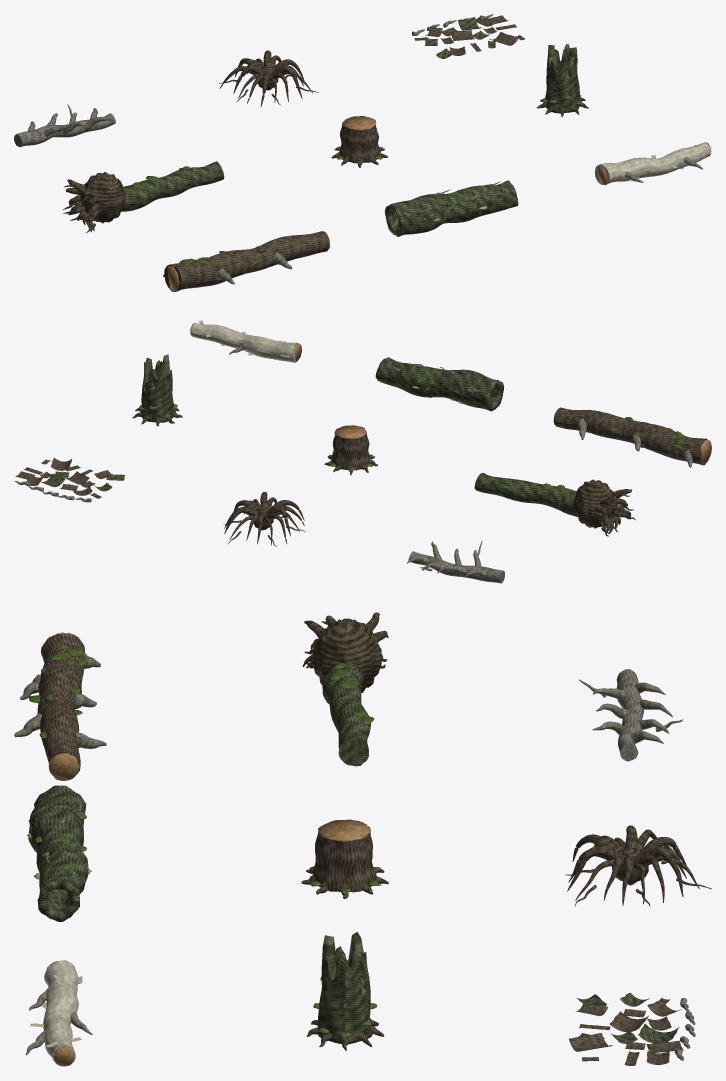
Rendered from PROJECT_Z_FallenLogStump_Master.glb.
3 views of the same model, one above another, from view 1: azimuth 30°, elevation 25°; view 2: azimuth 150°, elevation 25°; view 3: azimuth 270°, elevation 25° (orthographic). The views are drawn at different scales.
Visible parts, largest first — view 1: 02_HollowRot_Log_2p8m_HollowAnnularTrunk_MESH, 01_FallenPine_Log_3p6m_BarkTrunk_MESH, 04_Uprooted_TreeRootball_3p0m_Trunk_MESH, 03_Birch_Windfall_2p5m_PaleBarkTrunk_MESH, 06_Splintered_RottenStump_1p1m_HollowJaggedTrunk_MESH, 04_Uprooted_TreeRootball_3p0m_RootBallMass_MESH, 05_SawCut_OakStump_0p7m_TrunkBark_MESH, 07_ForkedDeadwood_Limb_2p3m_MainGreySnag_MESH; view 2: 02_HollowRot_Log_2p8m_HollowAnnularTrunk_MESH, 01_FallenPine_Log_3p6m_BarkTrunk_MESH, 04_Uprooted_TreeRootball_3p0m_Trunk_MESH, 03_Birch_Windfall_2p5m_PaleBarkTrunk_MESH, 06_Splintered_RottenStump_1p1m_HollowJaggedTrunk_MESH, 04_Uprooted_TreeRootball_3p0m_RootBallMass_MESH, 05_SawCut_OakStump_0p7m_TrunkBark_MESH, 07_ForkedDeadwood_Limb_2p3m_MainGreySnag_MESH; view 3: 02_HollowRot_Log_2p8m_HollowAnnularTrunk_MESH, 06_Splintered_RottenStump_1p1m_HollowJaggedTrunk_MESH, 01_FallenPine_Log_3p6m_BarkTrunk_MESH, 04_Uprooted_TreeRootball_3p0m_RootBallMass_MESH, 04_Uprooted_TreeRootball_3p0m_Trunk_MESH, 05_SawCut_OakStump_0p7m_TrunkBark_MESH, 03_Birch_Windfall_2p5m_PaleBarkTrunk_MESH, 07_ForkedDeadwood_Limb_2p3m_MainGreySnag_MESH, 05_SawCut_OakStump_0p7m_CutFaceRings_MESH.
Boxes of the visible parts, x1,y1,x2,y2 form: 02_HollowRot_Log_2p8m_HollowAnnularTrunk_MESH: (384, 180, 518, 236); 01_FallenPine_Log_3p6m_BarkTrunk_MESH: (164, 231, 329, 291); 04_Uprooted_TreeRootball_3p0m_Trunk_MESH: (120, 161, 224, 211); 03_Birch_Windfall_2p5m_PaleBarkTrunk_MESH: (595, 142, 710, 185); 06_Splintered_RottenStump_1p1m_HollowJaggedTrunk_MESH: (545, 44, 579, 113); 04_Uprooted_TreeRootball_3p0m_RootBallMass_MESH: (80, 172, 125, 223); 05_SawCut_OakStump_0p7m_TrunkBark_MESH: (339, 119, 380, 163); 07_ForkedDeadwood_Limb_2p3m_MainGreySnag_MESH: (14, 113, 115, 147); 02_HollowRot_Log_2p8m_HollowAnnularTrunk_MESH: (375, 357, 504, 411); 01_FallenPine_Log_3p6m_BarkTrunk_MESH: (554, 407, 707, 465); 04_Uprooted_TreeRootball_3p0m_Trunk_MESH: (474, 473, 578, 517); 03_Birch_Windfall_2p5m_PaleBarkTrunk_MESH: (191, 323, 297, 362); 06_Splintered_RottenStump_1p1m_HollowJaggedTrunk_MESH: (141, 354, 174, 422); 04_Uprooted_TreeRootball_3p0m_RootBallMass_MESH: (573, 479, 616, 528); 05_SawCut_OakStump_0p7m_TrunkBark_MESH: (331, 425, 369, 470); 07_ForkedDeadwood_Limb_2p3m_MainGreySnag_MESH: (408, 551, 504, 583); 02_HollowRot_Log_2p8m_HollowAnnularTrunk_MESH: (28, 785, 88, 921); 06_Splintered_RottenStump_1p1m_HollowJaggedTrunk_MESH: (317, 932, 372, 1043); 01_FallenPine_Log_3p6m_BarkTrunk_MESH: (37, 633, 84, 780); 04_Uprooted_TreeRootball_3p0m_RootBallMass_MESH: (312, 618, 381, 692); 04_Uprooted_TreeRootball_3p0m_Trunk_MESH: (322, 664, 370, 766); 05_SawCut_OakStump_0p7m_TrunkBark_MESH: (312, 820, 376, 892); 03_Birch_Windfall_2p5m_PaleBarkTrunk_MESH: (43, 960, 78, 1066); 07_ForkedDeadwood_Limb_2p3m_MainGreySnag_MESH: (616, 669, 643, 761); 05_SawCut_OakStump_0p7m_CutFaceRings_MESH: (320, 819, 369, 841).
Size of the model in its own units: 12.85 by 1.48 by 9.3.
8 materials, 8 textured.
